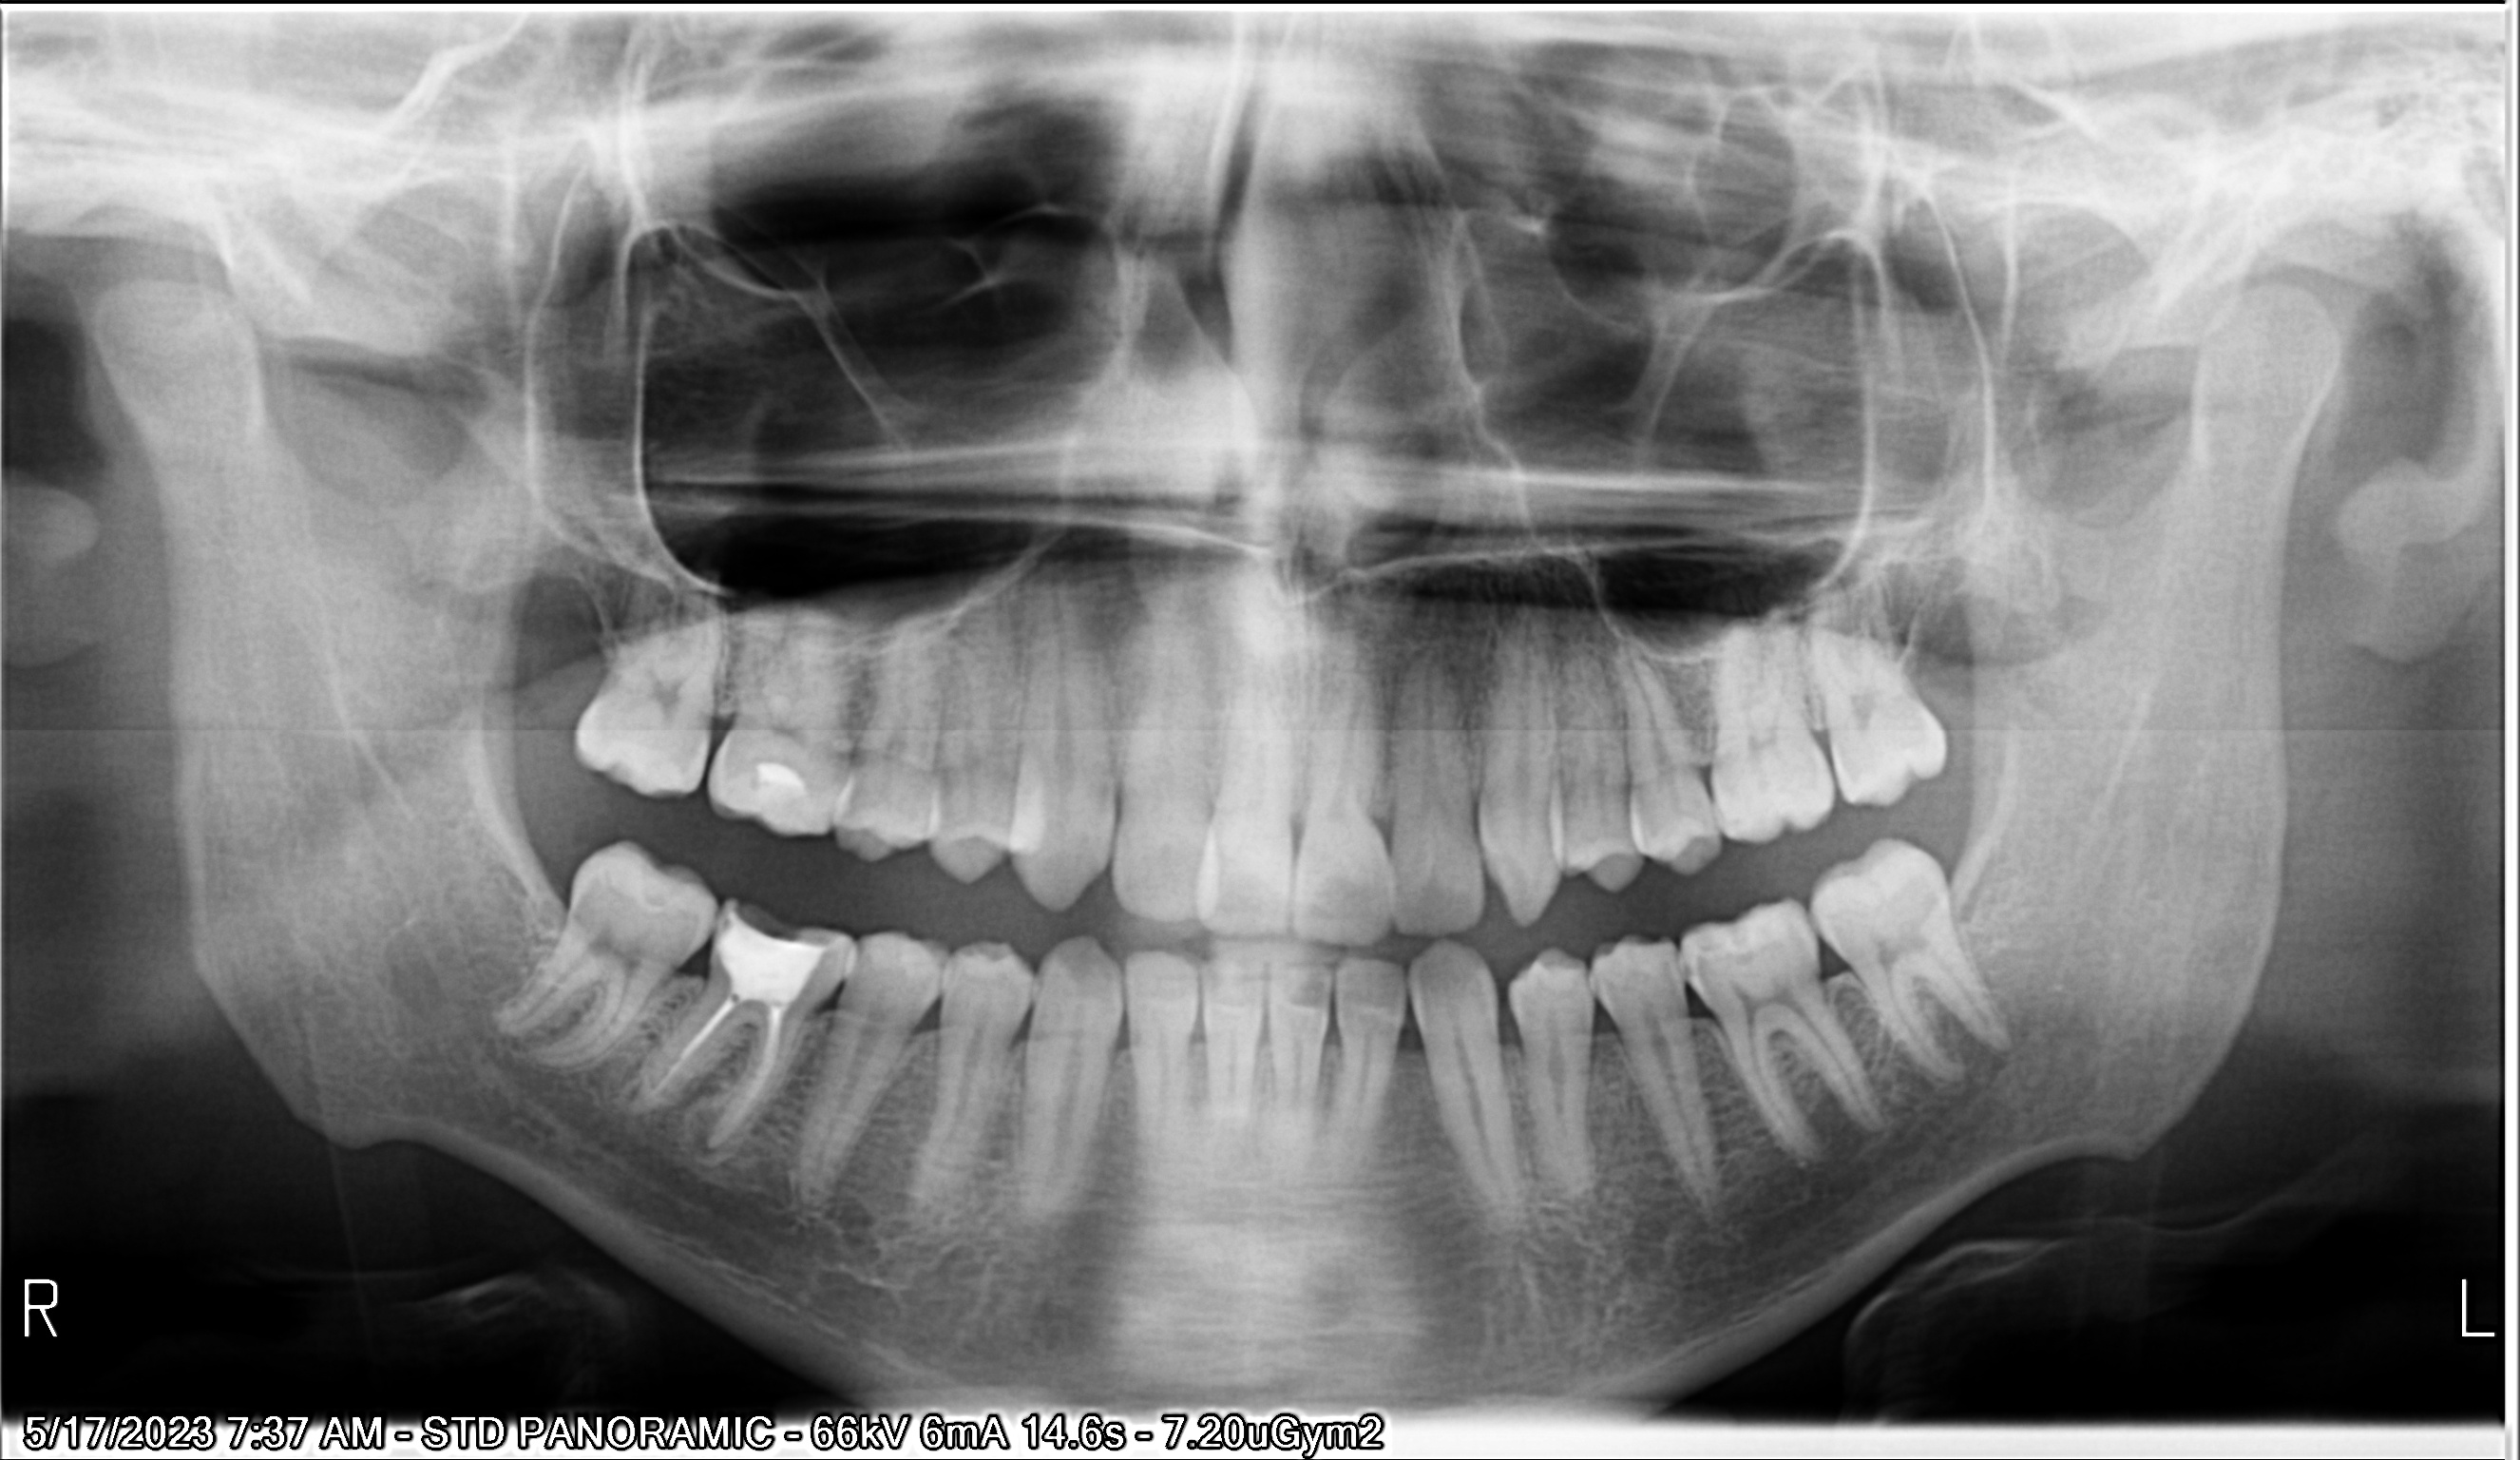API: (677, 1114, 752, 1173), (611, 1072, 665, 1133)
CAR: (1702, 944, 1765, 972), (1716, 806, 1751, 836), (1681, 951, 1695, 994)
END: (743, 999, 797, 1154), (672, 979, 728, 1081)
OBT: (717, 900, 828, 996), (731, 756, 825, 848), (615, 855, 679, 926), (1716, 912, 1785, 939)
